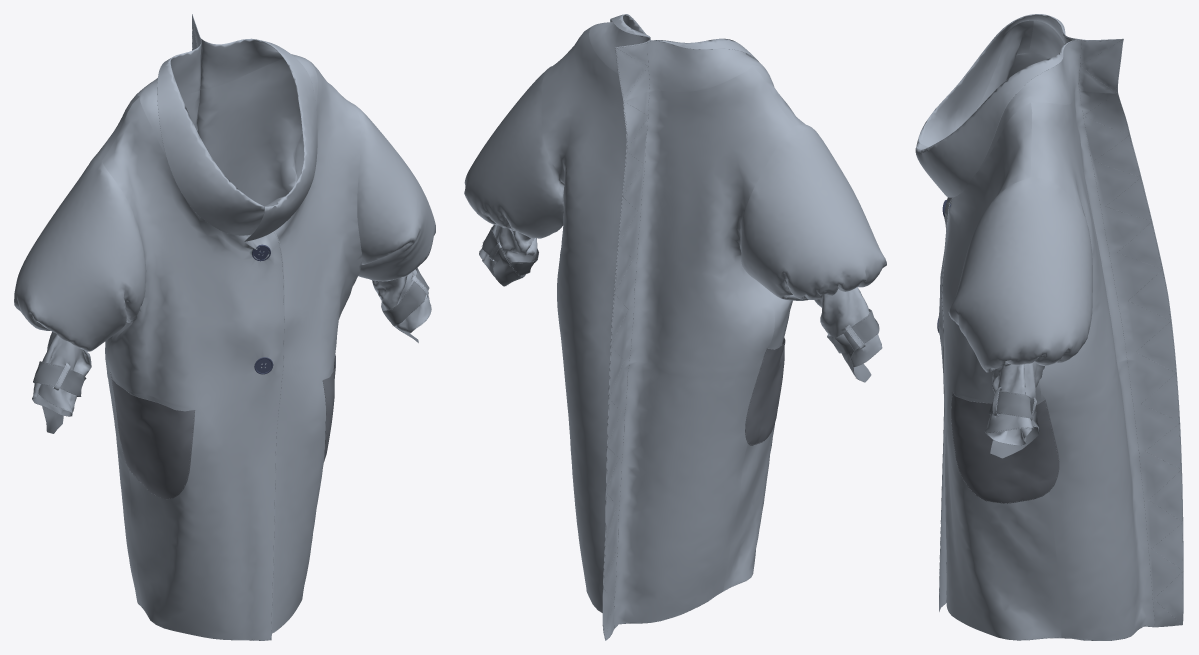
Rendered from asset.glb.
3 views of the same model, side by side, from view 1: azimuth 30°, elevation 25°; view 2: azimuth 150°, elevation 25°; view 3: azimuth 270°, elevation 25° (orthographic). The views are drawn at different scales.
Visible parts, largest first — view 1: Cloth; view 2: Cloth; view 3: Cloth.
Boxes of the visible parts, left/top/right/bottom form: Cloth: left=14, top=14, right=435, bottom=640; Cloth: left=464, top=14, right=886, bottom=640; Cloth: left=915, top=14, right=1183, bottom=640.
Bounding box in the file's own units: 0.8588 × 1.16 × 0.4735.
7 materials, 7 textured.
